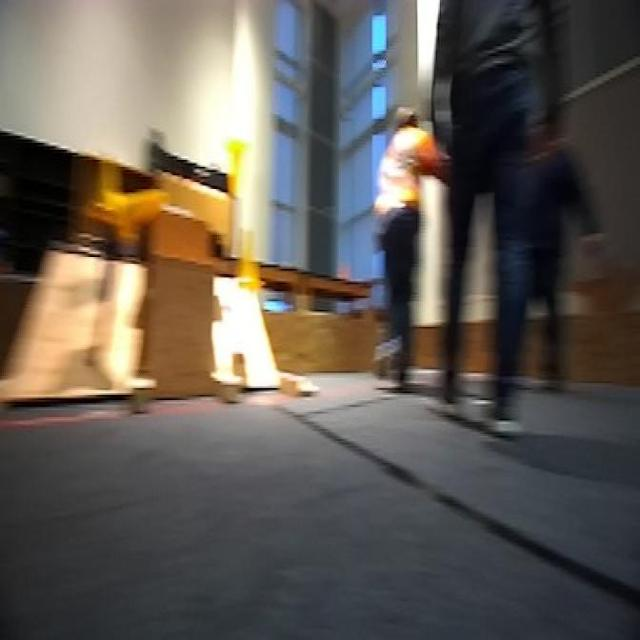frc_cone: (109, 181, 170, 245), (226, 128, 258, 199), (235, 227, 266, 300), (94, 158, 126, 226)
